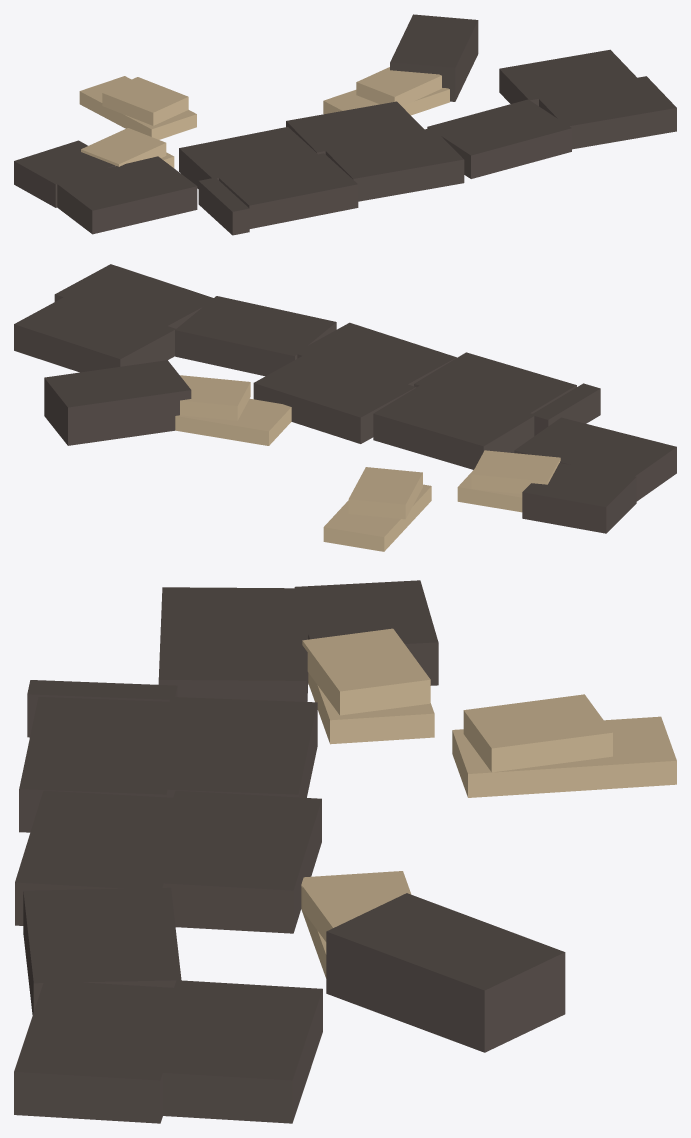
The model's file is SM_PretilEsquinaPaso_v4_Red_e3_Brecha_LOD1.fbx.
3 views of the same model, one above another, from view 1: azimuth 30°, elevation 25°; view 2: azimuth 150°, elevation 25°; view 3: azimuth 270°, elevation 25° (orthographic). The views are drawn at different scales.
Visible parts, largest first — view 1: SM_pretil_azotea_v59_LOD1; view 2: SM_pretil_azotea_v59_LOD1; view 3: SM_pretil_azotea_v59_LOD1.
Boxes of the visible parts, x1,y1,x2,y2 form: SM_pretil_azotea_v59_LOD1: [14, 14, 676, 235]; SM_pretil_azotea_v59_LOD1: [14, 264, 676, 551]; SM_pretil_azotea_v59_LOD1: [14, 580, 676, 1123].
Bounding box in the file's own units: 4.48 × 0.26 × 2.51.
